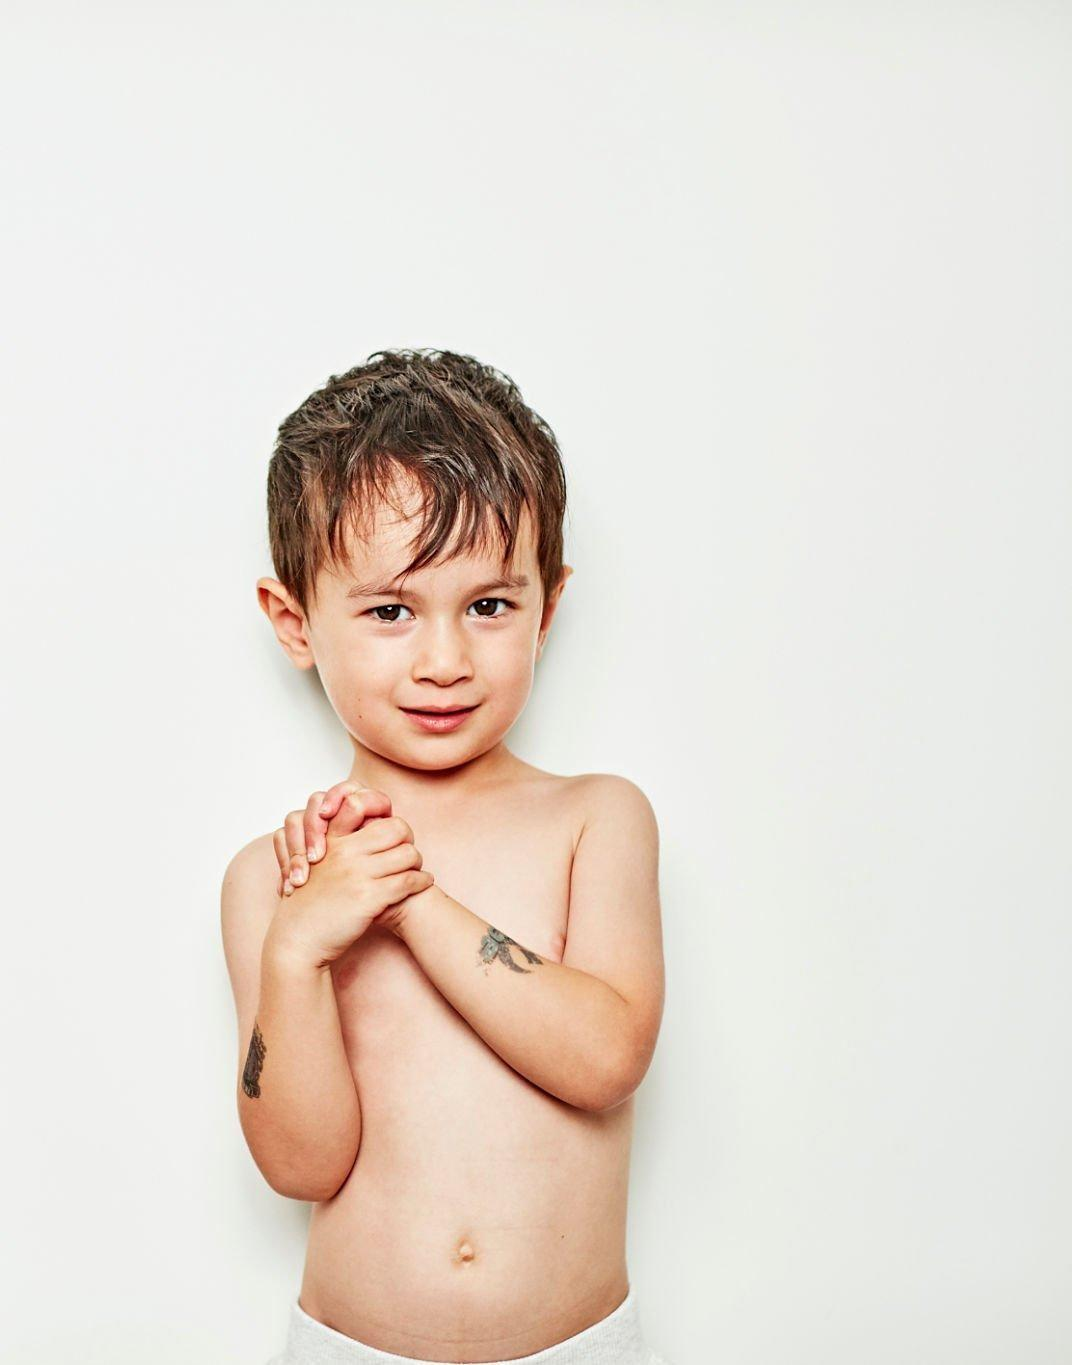Healthy: (281, 462, 567, 782)
